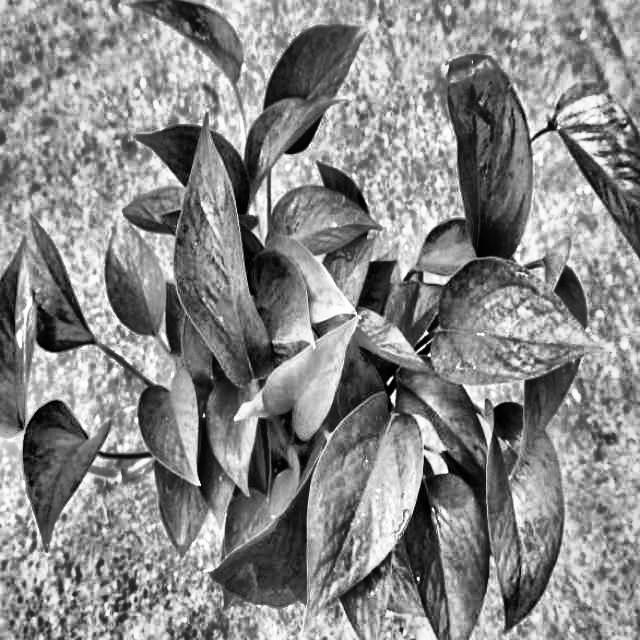plants: (72, 68, 577, 607)
